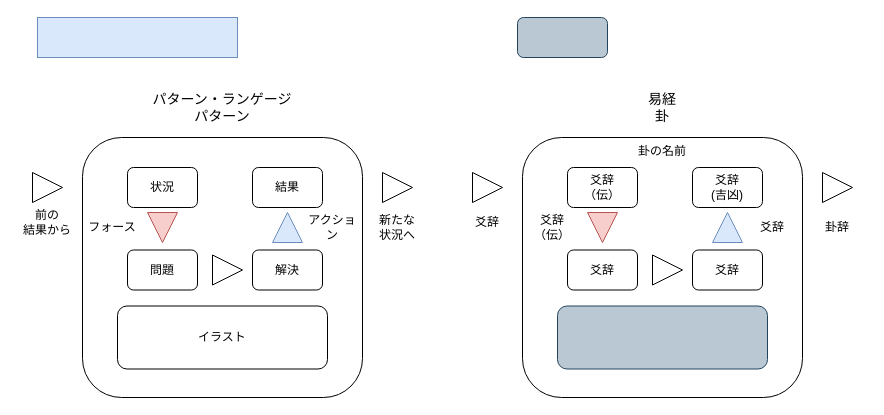
The diagram is 884 pixels wide and 415 high, and some of its shapes have lost their labels. Here are the shapes that lost their labels. From the top down, the box of each, then its label:
(36, 16, 238, 58): パターンと卦
(516, 16, 608, 58): 記載なし
(82, 136, 362, 398): パターン名
(556, 305, 768, 369): 卦の象（？）
